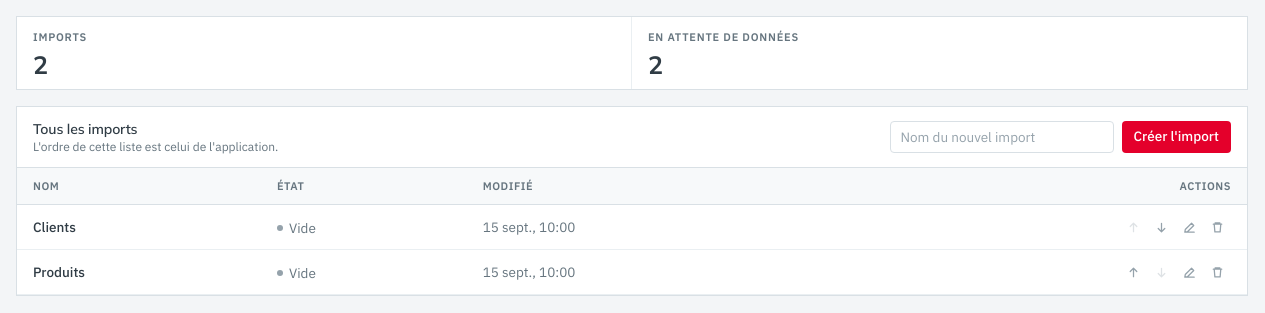
monter envoie la liste complète réordonnée
The image size is (1265, 313).
Click the button named "Monter Produits" at (1133, 272), box top-left (1119, 258), bottom-right (1147, 286)
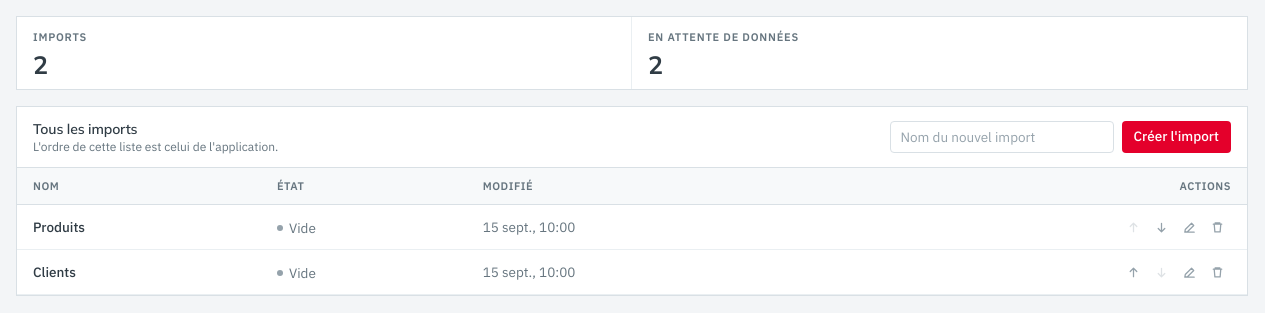
Expected: the links read "Produits", "Clients", in this order, top-left (33, 218), bottom-right (85, 236); top-left (33, 263), bottom-right (76, 281)
